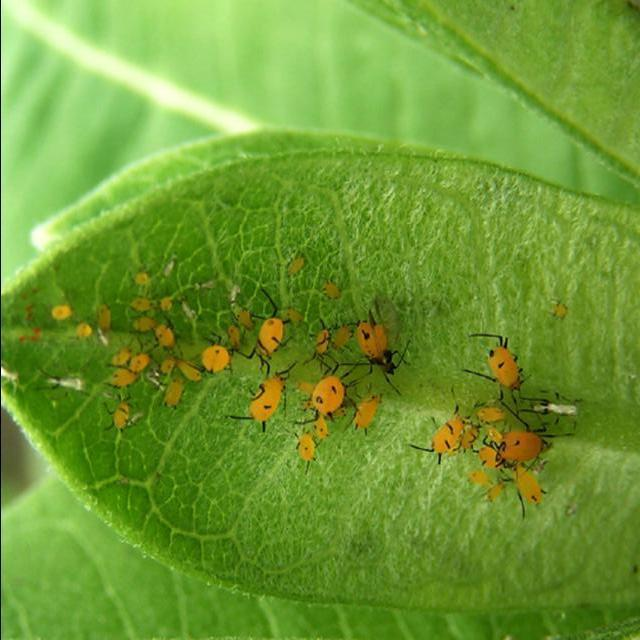aphid: (457, 330, 536, 402), (330, 312, 408, 378), (298, 357, 352, 432), (234, 370, 284, 438), (244, 306, 297, 370), (484, 418, 548, 464), (344, 380, 386, 450), (106, 348, 152, 390), (427, 416, 468, 462), (100, 390, 138, 430), (309, 318, 342, 361), (150, 314, 182, 354), (202, 329, 232, 363), (295, 431, 318, 471), (162, 377, 186, 408), (97, 304, 111, 333), (322, 280, 342, 300)
